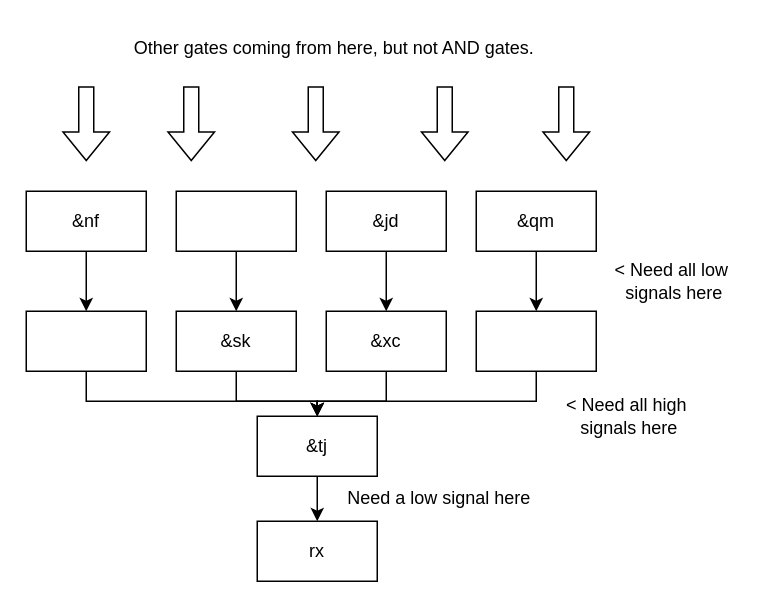
This 773x608 diagram has some shape labels left out. The shapes that lost their labels are listed below. From the top down, each one's centre as x and y in pixels, then its label:
At point 235,220: "&pm".
At point 85,340: "&vt".
At point 535,340: "&kk".
